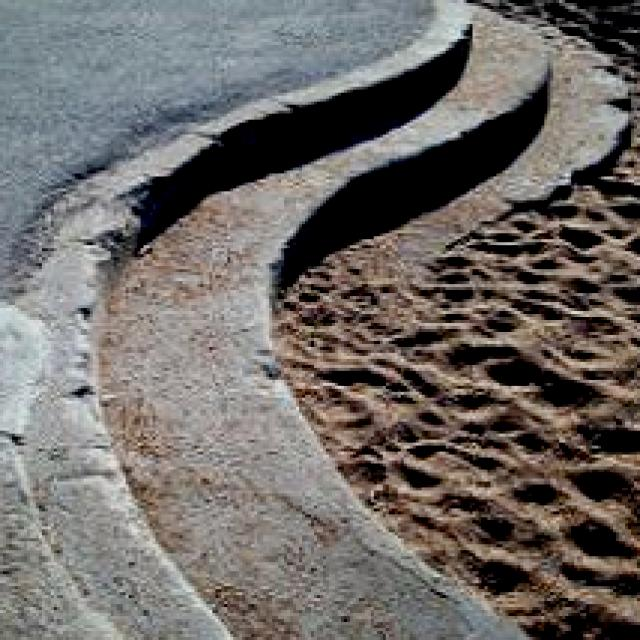upstair: (1, 214, 414, 579)
